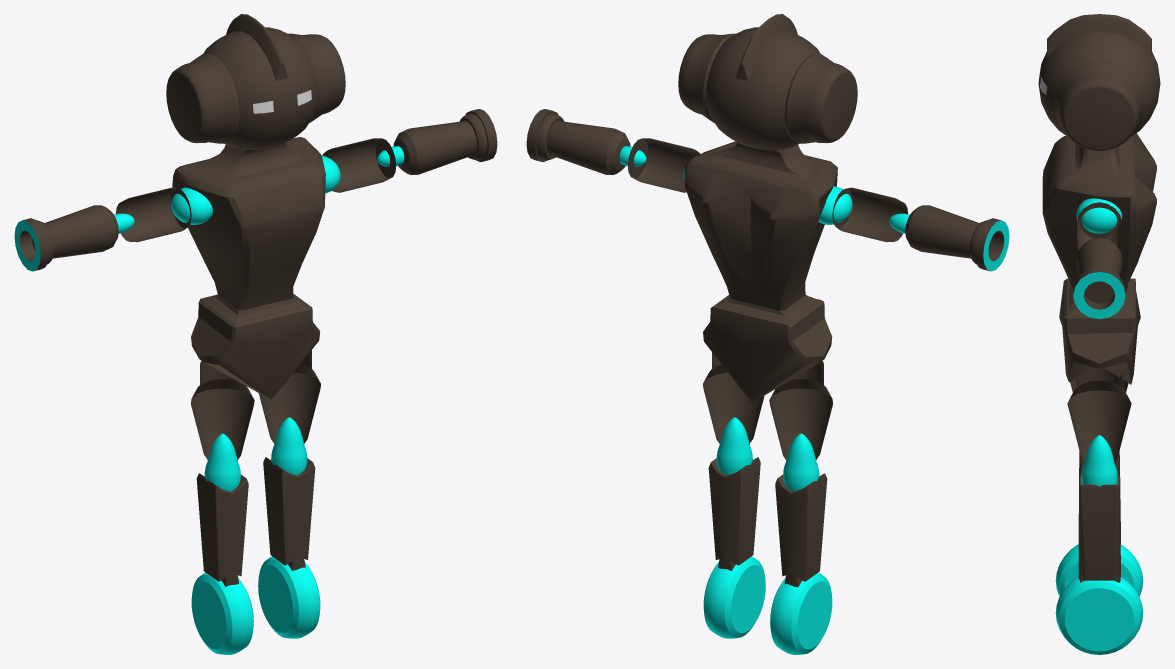
Rendered from Humanoid Robot Character.fbx.
The picture shows the model from 3 angles, left to right: view 1: azimuth 30°, elevation 25°; view 2: azimuth 150°, elevation 25°; view 3: azimuth 270°, elevation 25°; orthographic projection.
Visible parts, largest first — view 1: Cube.001, Sphere, Circle.002, Cube, Circle.006, Circle.004, Circle.003, Sphere.003, Sphere.002, Plane; view 2: Cube.001, Sphere, Circle.002, Cube, Circle.006, Circle.004, Circle.003, Sphere.003, Plane, Sphere.002; view 3: Cube.001, Sphere, Circle.006, Cube, Circle.004, Circle.002, Plane, Sphere.003, Sphere.002, Circle.003.
Boxes of the visible parts, bbox=[...] form: Cube.001: bbox=[172, 137, 325, 399]; Sphere: bbox=[166, 27, 345, 149]; Circle.002: bbox=[14, 109, 497, 271]; Cube: bbox=[196, 457, 315, 586]; Circle.006: bbox=[191, 556, 320, 654]; Circle.004: bbox=[191, 350, 320, 460]; Circle.003: bbox=[116, 138, 396, 242]; Sphere.003: bbox=[204, 417, 307, 491]; Sphere.002: bbox=[171, 156, 340, 224]; Plane: bbox=[226, 14, 288, 80]; Cube.001: bbox=[684, 141, 837, 402]; Sphere: bbox=[678, 27, 857, 149]; Circle.002: bbox=[526, 109, 1009, 271]; Cube: bbox=[708, 457, 827, 587]; Circle.006: bbox=[703, 556, 832, 654]; Circle.004: bbox=[703, 352, 832, 460]; Circle.003: bbox=[627, 138, 907, 242]; Sphere.003: bbox=[716, 417, 819, 491]; Plane: bbox=[735, 14, 797, 80]; Sphere.002: bbox=[683, 169, 852, 224]; Cube.001: bbox=[1042, 133, 1156, 384]; Sphere: bbox=[1038, 31, 1160, 151]; Circle.006: bbox=[1055, 544, 1143, 654]; Cube: bbox=[1078, 451, 1120, 582]; Circle.004: bbox=[1067, 368, 1131, 461]; Circle.002: bbox=[1073, 237, 1125, 319]; Plane: bbox=[1047, 14, 1151, 57]; Sphere.003: bbox=[1081, 435, 1117, 486]; Sphere.002: bbox=[1076, 198, 1122, 233]; Circle.003: bbox=[1077, 202, 1121, 250].
Size of the model in its own units: 8.24 by 10.76 by 1.91.
